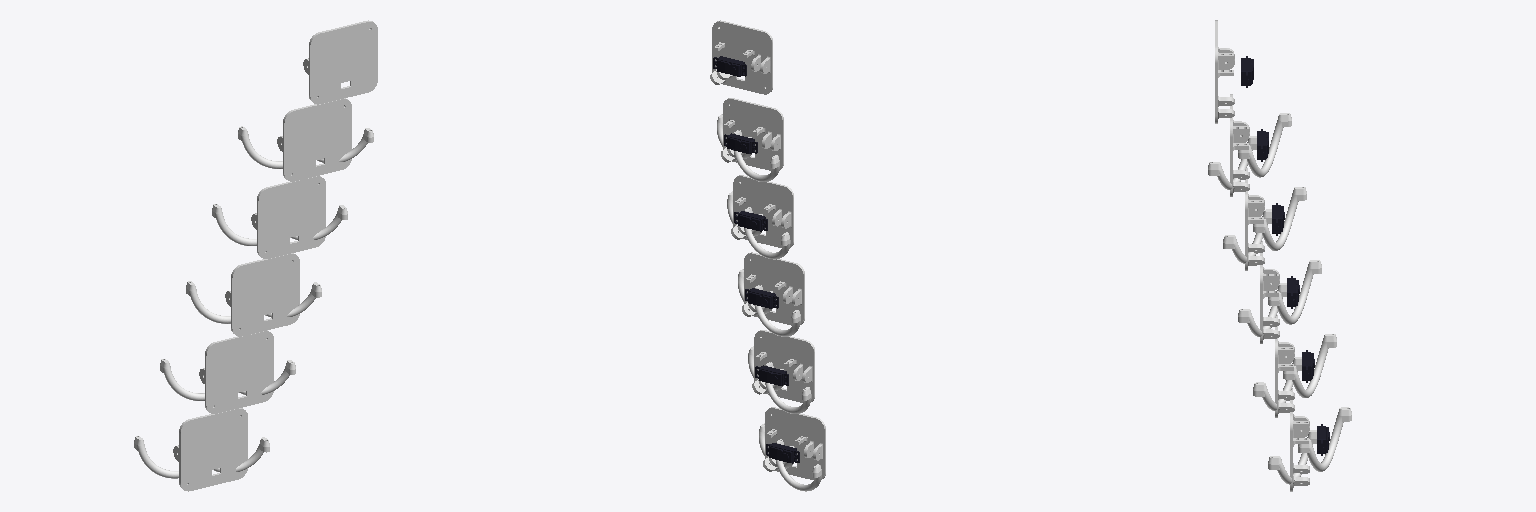
The robot description file, URDF, robot "snakebot_5_module":
<?xml version="1.0"?>
<robot name="snakebot_5_module">
  <!-- this urdf is a clean kinematic tree matching the new mjcf layout.
       closed-loop rods are represented as fixed decorative links because
       urdf tree structure does not natively support loop constraints. -->

  <material name="plate_white">
    <color rgba="0.9 0.9 0.9 1"/>
  </material>
  <material name="servo_dark">
    <color rgba="0.15 0.15 0.2 1"/>
  </material>
  <material name="rod_white">
    <color rgba="0.95 0.95 0.95 1"/>
  </material>

  <link name="plate_0">
    <inertial>
      <origin xyz="0 0 0" rpy="0 0 0"/>
      <mass value="0.12"/>
      <inertia ixx="0.0003" ixy="0" ixz="0" iyy="0.0003" iyz="0" izz="0.0003"/>
    </inertial>
    <visual>
      <origin xyz="0 0 0" rpy="0 0 0"/>
      <geometry><mesh filename="../stls/fusioncomponent.stl"/></geometry>
      <material name="plate_white"/>
    </visual>
    <visual>
      <origin xyz="0 0 0" rpy="0 0 0"/>
      <geometry><mesh filename="../stls/servo_motor_35kg_motor_v1.stl"/></geometry>
      <material name="servo_dark"/>
    </visual>
    <collision>
      <origin xyz="0 0 0" rpy="0 0 0"/>
      <geometry><box size="0.12 0.12 0.016"/></geometry>
    </collision>
  </link>

  <!-- module 0 -->
  <link name="module_0_rod_main">
    <inertial><origin xyz="0 0 0.055" rpy="0 0 0"/><mass value="0.02"/><inertia ixx="1e-5" ixy="0" ixz="0" iyy="1e-5" iyz="0" izz="1e-5"/></inertial>
    <visual><origin xyz="0 0 0" rpy="0 0 0"/><geometry><mesh filename="../stls/danda_v4.stl"/></geometry><material name="rod_white"/></visual>
    <collision><origin xyz="0 0 0.055" rpy="0 0 0"/><geometry><cylinder radius="0.006" length="0.11"/></geometry></collision>
  </link>
  <joint name="module_0_servo_a" type="revolute">
    <origin xyz="0.028 -0.018 0" rpy="0 0 0"/>
    <parent link="plate_0"/>
    <child link="module_0_rod_main"/>
    <axis xyz="0 0 1"/>
    <limit lower="-1.0472" upper="1.0472" effort="12" velocity="4"/>
  </joint>

  <link name="plate_1">
    <inertial><origin xyz="0 0 0" rpy="0 0 0"/><mass value="0.12"/><inertia ixx="0.0003" ixy="0" ixz="0" iyy="0.0003" iyz="0" izz="0.0003"/></inertial>
    <visual><origin xyz="0 0 0" rpy="0 0 0"/><geometry><mesh filename="../stls/fusioncomponent.stl"/></geometry><material name="plate_white"/></visual>
    <visual><origin xyz="0 0 0" rpy="0 0 0"/><geometry><mesh filename="../stls/servo_motor_35kg_motor_v1.stl"/></geometry><material name="servo_dark"/></visual>
    <collision><origin xyz="0 0 0" rpy="0 0 0"/><geometry><box size="0.12 0.12 0.016"/></geometry></collision>
  </link>
  <joint name="module_0_servo_b" type="revolute">
    <origin xyz="0 0 0.11" rpy="0 0 0"/>
    <parent link="module_0_rod_main"/>
    <child link="plate_1"/>
    <axis xyz="1 0 0"/>
    <limit lower="-1.0472" upper="1.0472" effort="12" velocity="4"/>
  </joint>

  <link name="module_0_rod_support">
    <inertial><origin xyz="0 0 0.055" rpy="0 0 0"/><mass value="0.02"/><inertia ixx="1e-5" ixy="0" ixz="0" iyy="1e-5" iyz="0" izz="1e-5"/></inertial>
    <visual><origin xyz="0 0 0" rpy="0 0 0"/><geometry><mesh filename="../stls/danda_support_v5.stl"/></geometry><material name="rod_white"/></visual>
    <collision><origin xyz="0 0 0.055" rpy="0 0 0"/><geometry><cylinder radius="0.006" length="0.11"/></geometry></collision>
  </link>
  <joint name="module_0_support_fixed" type="fixed">
    <origin xyz="-0.028 0.018 0" rpy="0 0 0"/>
    <parent link="plate_0"/>
    <child link="module_0_rod_support"/>
  </joint>

  <!-- module 1 -->
  <link name="module_1_rod_main"><inertial><origin xyz="0 0 0.055" rpy="0 0 0"/><mass value="0.02"/><inertia ixx="1e-5" ixy="0" ixz="0" iyy="1e-5" iyz="0" izz="1e-5"/></inertial><visual><origin xyz="0 0 0" rpy="0 0 0"/><geometry><mesh filename="../stls/danda_v4.stl"/></geometry><material name="rod_white"/></visual><collision><origin xyz="0 0 0.055" rpy="0 0 0"/><geometry><cylinder radius="0.006" length="0.11"/></geometry></collision></link>
  <joint name="module_1_servo_a" type="revolute"><origin xyz="0.028 -0.018 0" rpy="0 0 0"/><parent link="plate_1"/><child link="module_1_rod_main"/><axis xyz="0 0 1"/><limit lower="-1.0472" upper="1.0472" effort="12" velocity="4"/></joint>
  <link name="plate_2"><inertial><origin xyz="0 0 0" rpy="0 0 0"/><mass value="0.12"/><inertia ixx="0.0003" ixy="0" ixz="0" iyy="0.0003" iyz="0" izz="0.0003"/></inertial><visual><origin xyz="0 0 0" rpy="0 0 0"/><geometry><mesh filename="../stls/fusioncomponent.stl"/></geometry><material name="plate_white"/></visual><visual><origin xyz="0 0 0" rpy="0 0 0"/><geometry><mesh filename="../stls/servo_motor_35kg_motor_v1.stl"/></geometry><material name="servo_dark"/></visual><collision><origin xyz="0 0 0" rpy="0 0 0"/><geometry><box size="0.12 0.12 0.016"/></geometry></collision></link>
  <joint name="module_1_servo_b" type="revolute"><origin xyz="0 0 0.11" rpy="0 0 0"/><parent link="module_1_rod_main"/><child link="plate_2"/><axis xyz="1 0 0"/><limit lower="-1.0472" upper="1.0472" effort="12" velocity="4"/></joint>
  <link name="module_1_rod_support"><inertial><origin xyz="0 0 0.055" rpy="0 0 0"/><mass value="0.02"/><inertia ixx="1e-5" ixy="0" ixz="0" iyy="1e-5" iyz="0" izz="1e-5"/></inertial><visual><origin xyz="0 0 0" rpy="0 0 0"/><geometry><mesh filename="../stls/danda_support_v5.stl"/></geometry><material name="rod_white"/></visual><collision><origin xyz="0 0 0.055" rpy="0 0 0"/><geometry><cylinder radius="0.006" length="0.11"/></geometry></collision></link>
  <joint name="module_1_support_fixed" type="fixed"><origin xyz="-0.028 0.018 0" rpy="0 0 0"/><parent link="plate_1"/><child link="module_1_rod_support"/></joint>

  <!-- module 2 -->
  <link name="module_2_rod_main"><inertial><origin xyz="0 0 0.055" rpy="0 0 0"/><mass value="0.02"/><inertia ixx="1e-5" ixy="0" ixz="0" iyy="1e-5" iyz="0" izz="1e-5"/></inertial><visual><origin xyz="0 0 0" rpy="0 0 0"/><geometry><mesh filename="../stls/danda_v4.stl"/></geometry><material name="rod_white"/></visual><collision><origin xyz="0 0 0.055" rpy="0 0 0"/><geometry><cylinder radius="0.006" length="0.11"/></geometry></collision></link>
  <joint name="module_2_servo_a" type="revolute"><origin xyz="0.028 -0.018 0" rpy="0 0 0"/><parent link="plate_2"/><child link="module_2_rod_main"/><axis xyz="0 0 1"/><limit lower="-1.0472" upper="1.0472" effort="12" velocity="4"/></joint>
  <link name="plate_3"><inertial><origin xyz="0 0 0" rpy="0 0 0"/><mass value="0.12"/><inertia ixx="0.0003" ixy="0" ixz="0" iyy="0.0003" iyz="0" izz="0.0003"/></inertial><visual><origin xyz="0 0 0" rpy="0 0 0"/><geometry><mesh filename="../stls/fusioncomponent.stl"/></geometry><material name="plate_white"/></visual><visual><origin xyz="0 0 0" rpy="0 0 0"/><geometry><mesh filename="../stls/servo_motor_35kg_motor_v1.stl"/></geometry><material name="servo_dark"/></visual><collision><origin xyz="0 0 0" rpy="0 0 0"/><geometry><box size="0.12 0.12 0.016"/></geometry></collision></link>
  <joint name="module_2_servo_b" type="revolute"><origin xyz="0 0 0.11" rpy="0 0 0"/><parent link="module_2_rod_main"/><child link="plate_3"/><axis xyz="1 0 0"/><limit lower="-1.0472" upper="1.0472" effort="12" velocity="4"/></joint>
  <link name="module_2_rod_support"><inertial><origin xyz="0 0 0.055" rpy="0 0 0"/><mass value="0.02"/><inertia ixx="1e-5" ixy="0" ixz="0" iyy="1e-5" iyz="0" izz="1e-5"/></inertial><visual><origin xyz="0 0 0" rpy="0 0 0"/><geometry><mesh filename="../stls/danda_support_v5.stl"/></geometry><material name="rod_white"/></visual><collision><origin xyz="0 0 0.055" rpy="0 0 0"/><geometry><cylinder radius="0.006" length="0.11"/></geometry></collision></link>
  <joint name="module_2_support_fixed" type="fixed"><origin xyz="-0.028 0.018 0" rpy="0 0 0"/><parent link="plate_2"/><child link="module_2_rod_support"/></joint>

  <!-- module 3 -->
  <link name="module_3_rod_main"><inertial><origin xyz="0 0 0.055" rpy="0 0 0"/><mass value="0.02"/><inertia ixx="1e-5" ixy="0" ixz="0" iyy="1e-5" iyz="0" izz="1e-5"/></inertial><visual><origin xyz="0 0 0" rpy="0 0 0"/><geometry><mesh filename="../stls/danda_v4.stl"/></geometry><material name="rod_white"/></visual><collision><origin xyz="0 0 0.055" rpy="0 0 0"/><geometry><cylinder radius="0.006" length="0.11"/></geometry></collision></link>
  <joint name="module_3_servo_a" type="revolute"><origin xyz="0.028 -0.018 0" rpy="0 0 0"/><parent link="plate_3"/><child link="module_3_rod_main"/><axis xyz="0 0 1"/><limit lower="-1.0472" upper="1.0472" effort="12" velocity="4"/></joint>
  <link name="plate_4"><inertial><origin xyz="0 0 0" rpy="0 0 0"/><mass value="0.12"/><inertia ixx="0.0003" ixy="0" ixz="0" iyy="0.0003" iyz="0" izz="0.0003"/></inertial><visual><origin xyz="0 0 0" rpy="0 0 0"/><geometry><mesh filename="../stls/fusioncomponent.stl"/></geometry><material name="plate_white"/></visual><visual><origin xyz="0 0 0" rpy="0 0 0"/><geometry><mesh filename="../stls/servo_motor_35kg_motor_v1.stl"/></geometry><material name="servo_dark"/></visual><collision><origin xyz="0 0 0" rpy="0 0 0"/><geometry><box size="0.12 0.12 0.016"/></geometry></collision></link>
  <joint name="module_3_servo_b" type="revolute"><origin xyz="0 0 0.11" rpy="0 0 0"/><parent link="module_3_rod_main"/><child link="plate_4"/><axis xyz="1 0 0"/><limit lower="-1.0472" upper="1.0472" effort="12" velocity="4"/></joint>
  <link name="module_3_rod_support"><inertial><origin xyz="0 0 0.055" rpy="0 0 0"/><mass value="0.02"/><inertia ixx="1e-5" ixy="0" ixz="0" iyy="1e-5" iyz="0" izz="1e-5"/></inertial><visual><origin xyz="0 0 0" rpy="0 0 0"/><geometry><mesh filename="../stls/danda_support_v5.stl"/></geometry><material name="rod_white"/></visual><collision><origin xyz="0 0 0.055" rpy="0 0 0"/><geometry><cylinder radius="0.006" length="0.11"/></geometry></collision></link>
  <joint name="module_3_support_fixed" type="fixed"><origin xyz="-0.028 0.018 0" rpy="0 0 0"/><parent link="plate_3"/><child link="module_3_rod_support"/></joint>

  <!-- module 4 -->
  <link name="module_4_rod_main"><inertial><origin xyz="0 0 0.055" rpy="0 0 0"/><mass value="0.02"/><inertia ixx="1e-5" ixy="0" ixz="0" iyy="1e-5" iyz="0" izz="1e-5"/></inertial><visual><origin xyz="0 0 0" rpy="0 0 0"/><geometry><mesh filename="../stls/danda_v4.stl"/></geometry><material name="rod_white"/></visual><collision><origin xyz="0 0 0.055" rpy="0 0 0"/><geometry><cylinder radius="0.006" length="0.11"/></geometry></collision></link>
  <joint name="module_4_servo_a" type="revolute"><origin xyz="0.028 -0.018 0" rpy="0 0 0"/><parent link="plate_4"/><child link="module_4_rod_main"/><axis xyz="0 0 1"/><limit lower="-1.0472" upper="1.0472" effort="12" velocity="4"/></joint>
  <link name="plate_5"><inertial><origin xyz="0 0 0" rpy="0 0 0"/><mass value="0.12"/><inertia ixx="0.0003" ixy="0" ixz="0" iyy="0.0003" iyz="0" izz="0.0003"/></inertial><visual><origin xyz="0 0 0" rpy="0 0 0"/><geometry><mesh filename="../stls/fusioncomponent.stl"/></geometry><material name="plate_white"/></visual><visual><origin xyz="0 0 0" rpy="0 0 0"/><geometry><mesh filename="../stls/servo_motor_35kg_motor_v1.stl"/></geometry><material name="servo_dark"/></visual><collision><origin xyz="0 0 0" rpy="0 0 0"/><geometry><box size="0.12 0.12 0.016"/></geometry></collision></link>
  <joint name="module_4_servo_b" type="revolute"><origin xyz="0 0 0.11" rpy="0 0 0"/><parent link="module_4_rod_main"/><child link="plate_5"/><axis xyz="1 0 0"/><limit lower="-1.0472" upper="1.0472" effort="12" velocity="4"/></joint>
  <link name="module_4_rod_support"><inertial><origin xyz="0 0 0.055" rpy="0 0 0"/><mass value="0.02"/><inertia ixx="1e-5" ixy="0" ixz="0" iyy="1e-5" iyz="0" izz="1e-5"/></inertial><visual><origin xyz="0 0 0" rpy="0 0 0"/><geometry><mesh filename="../stls/danda_support_v5.stl"/></geometry><material name="rod_white"/></visual><collision><origin xyz="0 0 0.055" rpy="0 0 0"/><geometry><cylinder radius="0.006" length="0.11"/></geometry></collision></link>
  <joint name="module_4_support_fixed" type="fixed"><origin xyz="-0.028 0.018 0" rpy="0 0 0"/><parent link="plate_4"/><child link="module_4_rod_support"/></joint>
</robot>

--- Facts derived from the render (not from the file) ---
Views: 3 orthographic renders of the robot side by side, from view 1: azimuth 30°, elevation 25°; view 2: azimuth 150°, elevation 25°; view 3: azimuth 270°, elevation 25°.
Robot: snakebot_5_module — 16 links, 15 joints (10 revolute, 5 fixed); root link plate_0; default pose: all joints at 0.
Links seen in each view (by area): view 1: plate_5, plate_4, plate_0, plate_2, plate_3, plate_1; view 2: plate_5, plate_4, plate_0, plate_2, plate_3, plate_1, module_4_rod_support, module_1_rod_support, module_0_rod_support, module_2_rod_support, module_3_rod_support; view 3: plate_5, plate_1, plate_3, plate_4, plate_2, plate_0, module_0_rod_support, module_2_rod_support, module_4_rod_support, module_3_rod_support, module_1_rod_support, module_1_rod_main (+4 smaller).
Boxes of the visible links, x1,y1,x2,y2 form: plate_5: [303, 20, 377, 104]; plate_4: [277, 98, 351, 181]; plate_0: [173, 408, 247, 491]; plate_2: [225, 253, 299, 336]; plate_3: [251, 176, 325, 258]; plate_1: [199, 330, 273, 413]; plate_5: [710, 20, 772, 94]; plate_4: [721, 98, 783, 170]; plate_0: [763, 407, 825, 479]; plate_2: [742, 252, 804, 325]; plate_3: [731, 175, 793, 247]; plate_1: [752, 330, 814, 402]; module_4_rod_support: [733, 130, 779, 181]; module_1_rod_support: [765, 362, 811, 413]; module_0_rod_support: [776, 439, 821, 491]; module_2_rod_support: [754, 285, 800, 336]; module_3_rod_support: [744, 207, 790, 259]; plate_5: [1215, 20, 1253, 123]; plate_1: [1275, 315, 1314, 417]; plate_3: [1245, 168, 1284, 270]; plate_4: [1230, 94, 1268, 196]; plate_2: [1260, 241, 1299, 343]; plate_0: [1290, 388, 1329, 491]; module_0_rod_support: [1298, 407, 1351, 471]; module_2_rod_support: [1268, 260, 1321, 324]; module_4_rod_support: [1238, 113, 1291, 177]; module_3_rod_support: [1253, 187, 1306, 250]; module_1_rod_support: [1283, 334, 1336, 397]; module_1_rod_main: [1253, 357, 1301, 410].
Bounding box of the posed robot: 0.268 × 0.173 × 0.65 m (x, y, z).
Meshes: 4 distinct files referenced, 22 mesh visuals loaded (4 binary STL).
